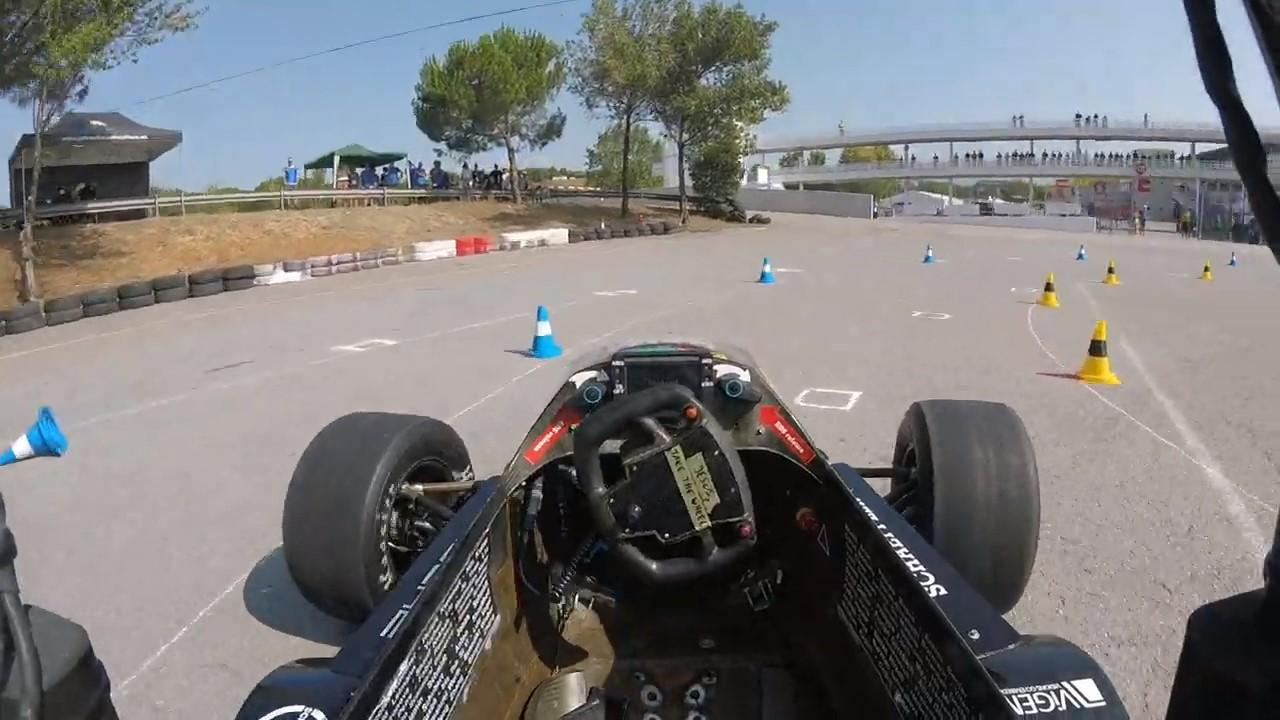blue_cone: (2, 410, 67, 463), (524, 308, 563, 361), (757, 257, 774, 285), (923, 243, 936, 265), (1075, 244, 1086, 261), (1228, 250, 1236, 267)
yellow_cone: (1078, 321, 1117, 385), (1036, 272, 1061, 309), (1103, 259, 1119, 285), (1199, 260, 1213, 280)
